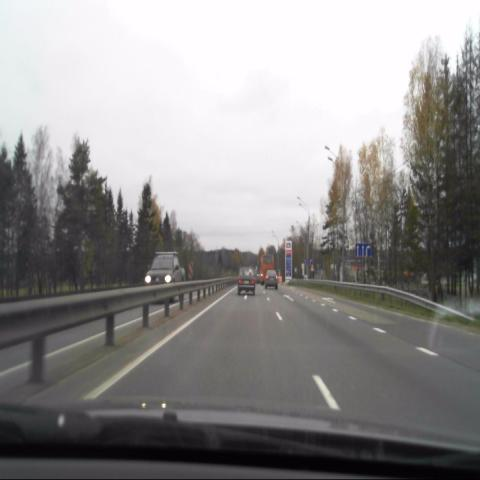5_15_1: (356, 243, 370, 256)
